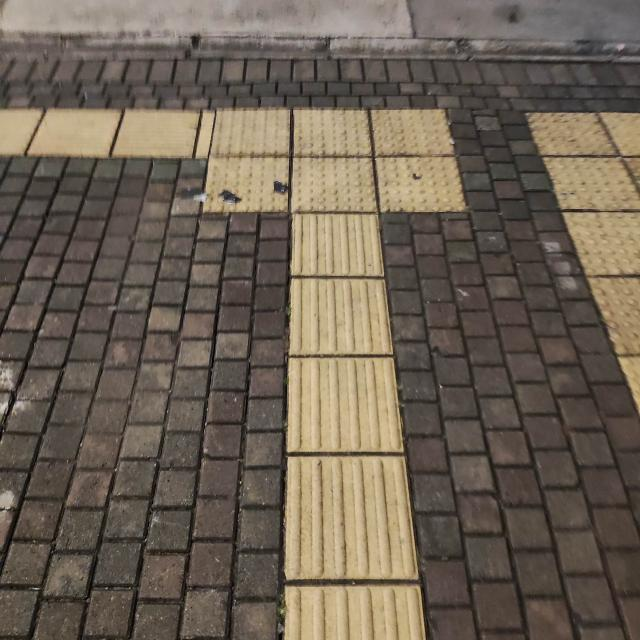kiri: (108, 69, 446, 288)
